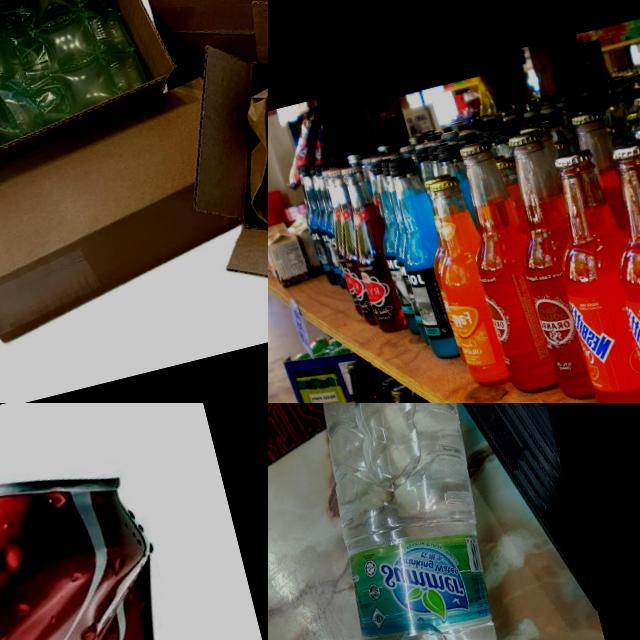garrafa de vidro: (492, 126, 613, 403), (444, 132, 568, 401), (532, 142, 640, 403), (417, 172, 522, 390), (378, 152, 471, 364), (586, 137, 640, 403), (336, 162, 410, 336), (339, 356, 396, 403)
garrafa plástica: (283, 403, 542, 640)
lata: (0, 446, 260, 640)
papelão: (0, 66, 268, 351), (145, 0, 268, 349), (0, 0, 193, 191)
